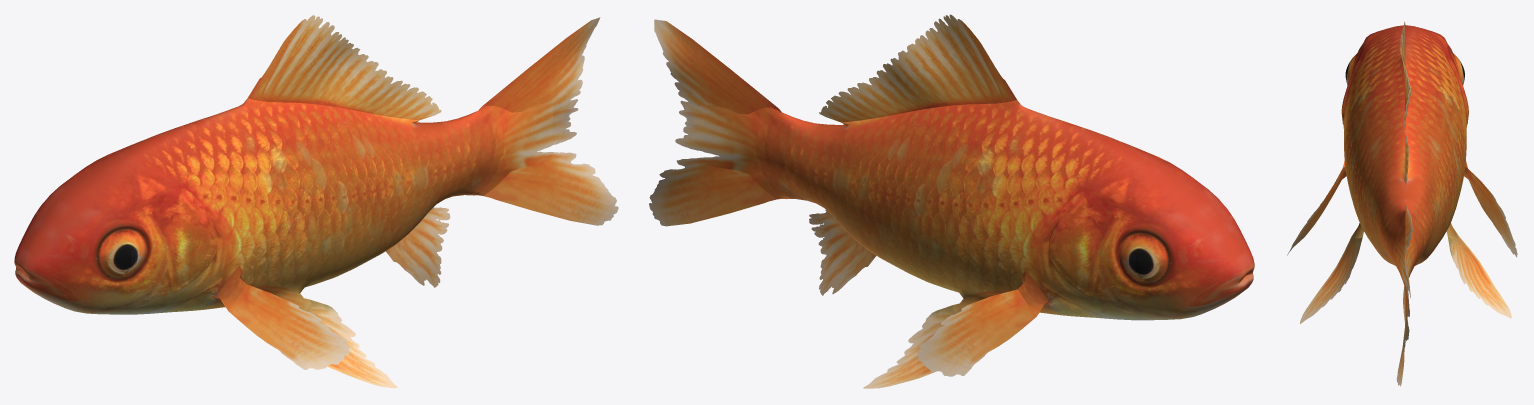
Rendered from goldfish.glb.
3 views of the same model, side by side, from view 1: azimuth 30°, elevation 25°; view 2: azimuth 150°, elevation 25°; view 3: azimuth 270°, elevation 25° (orthographic). The views are drawn at different scales.
Visible parts, largest first — view 1: Poisson_d-or_1; view 2: Poisson_d-or_1; view 3: Poisson_d-or_1.
Part boxes in pixels (x1,y1,x2,y2): Poisson_d-or_1: (14, 15, 618, 388); Poisson_d-or_1: (649, 14, 1254, 388); Poisson_d-or_1: (1287, 21, 1517, 386).
Size of the model in its own units: 0.0613 by 0.0334 by 0.0242.
1 material, 1 textured.
